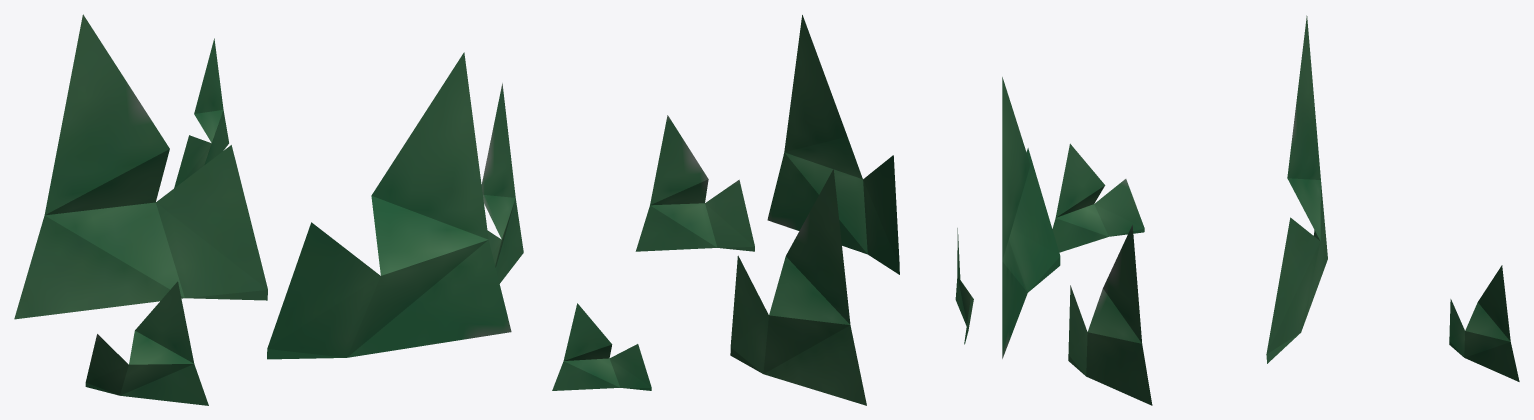
The model's file is GJ_Decor_Exterior_Grass01.fbx.
3 views of the same model, side by side, from view 1: azimuth 30°, elevation 25°; view 2: azimuth 150°, elevation 25°; view 3: azimuth 270°, elevation 25° (orthographic). The views are drawn at different scales.
Parts seen in each view (by area): view 1: GJ_Decor_Exterior_Grass01; view 2: GJ_Decor_Exterior_Grass01; view 3: GJ_Decor_Exterior_Grass01.
Boxes of the visible parts, left/top/right/bottom form: GJ_Decor_Exterior_Grass01: left=14, top=14, right=523, bottom=405; GJ_Decor_Exterior_Grass01: left=552, top=15, right=973, bottom=405; GJ_Decor_Exterior_Grass01: left=1002, top=15, right=1519, bottom=405.
Bounding box in the file's own units: 2.56 × 1.9 × 2.88.
1 material, 1 textured.
